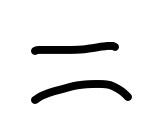eqv: (28, 39, 135, 105)
